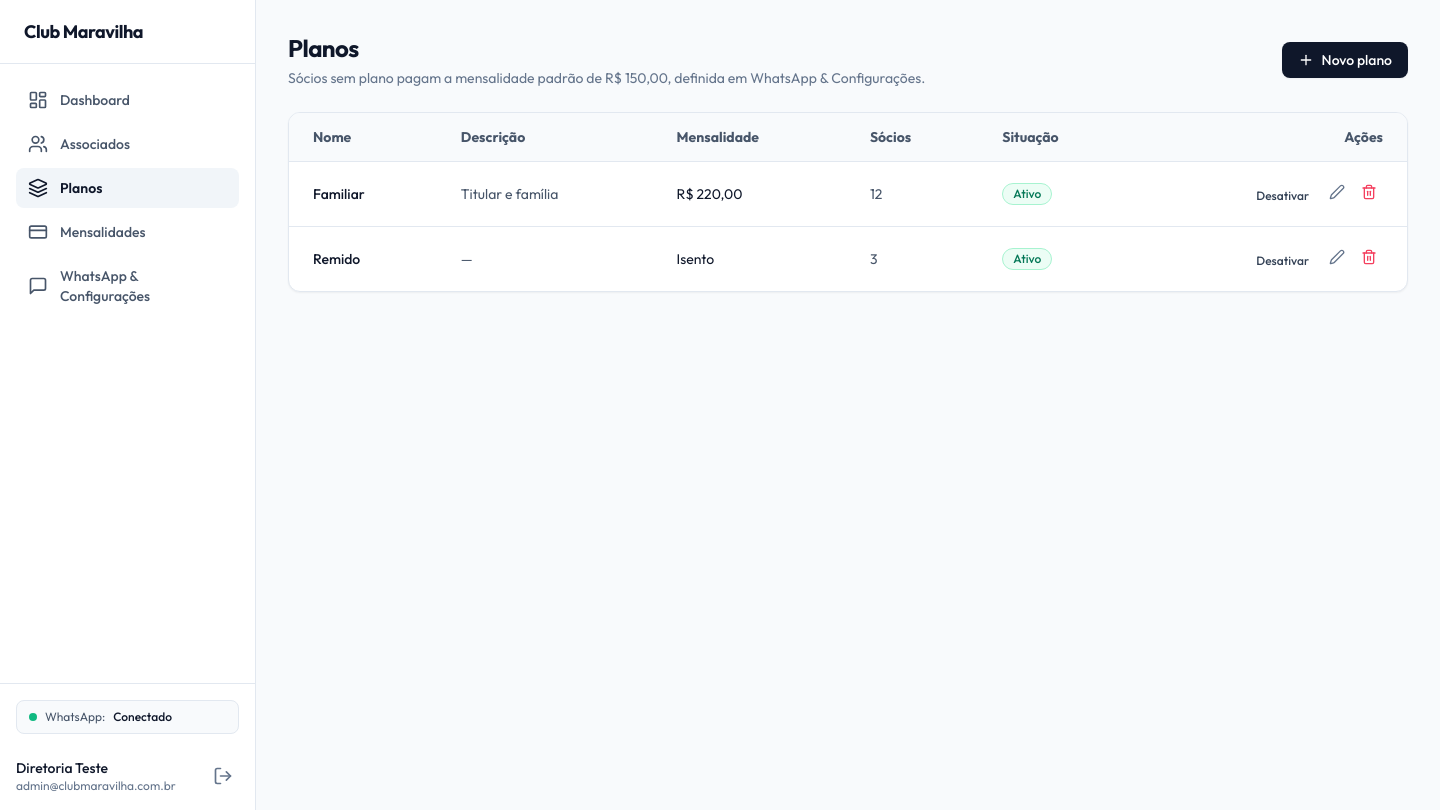
Test case: PlanosPage › cria plano e valida obrigatórios
Check: the row "Familiar Titular e família R$ 220,00 12 Ativo Desativar" is shown, box [289, 162, 1407, 226]
Click the button "Novo plano": (1345, 60) [1282, 42, 1408, 78]
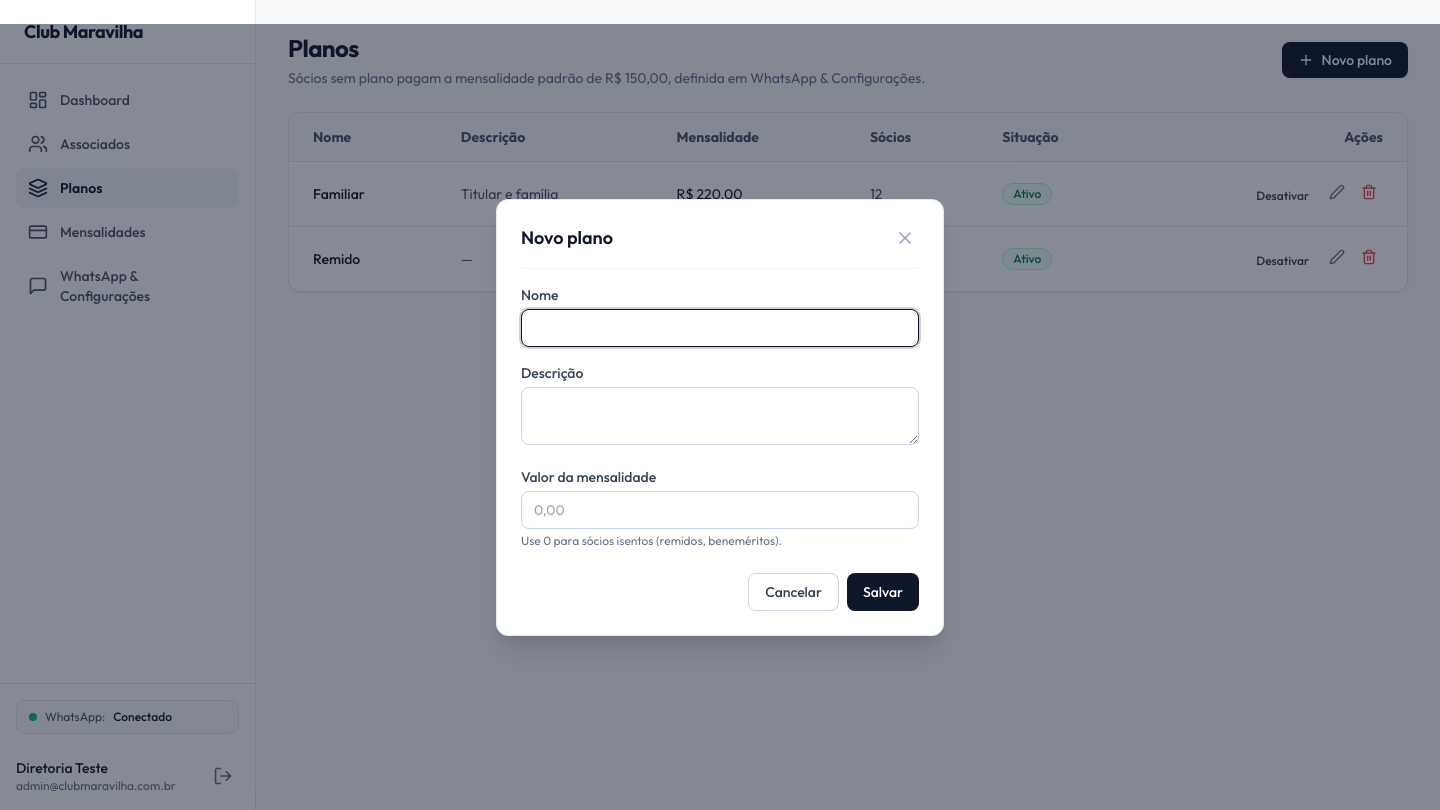
Click the button "Salvar": (883, 592) [847, 572, 919, 610]
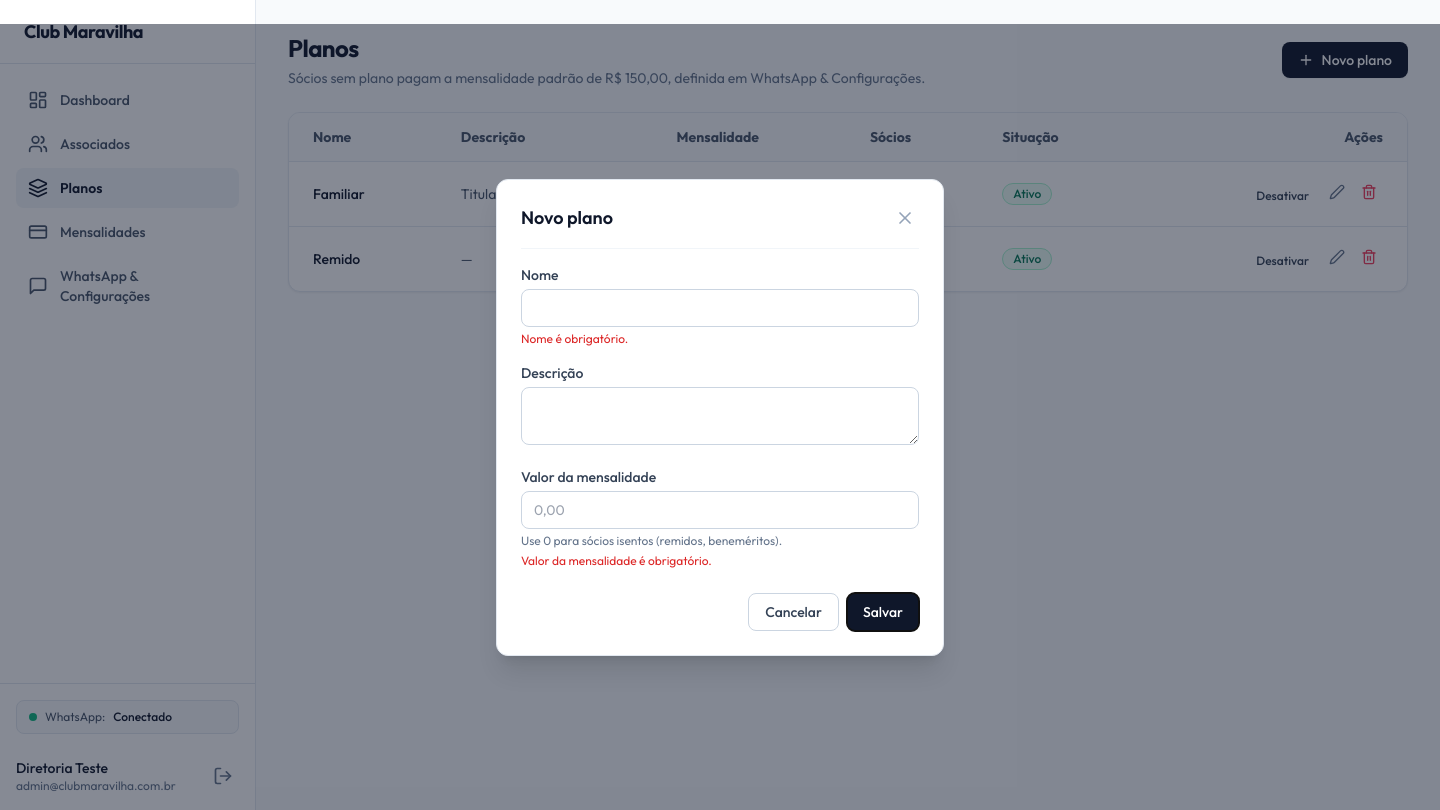
Check: the text "Nome é obrigatório." is shown 2 times, box [521, 330, 628, 346]; [521, 552, 712, 568]
In the field labelled "Nome": (720, 308) [521, 288, 919, 326], type "Individual"
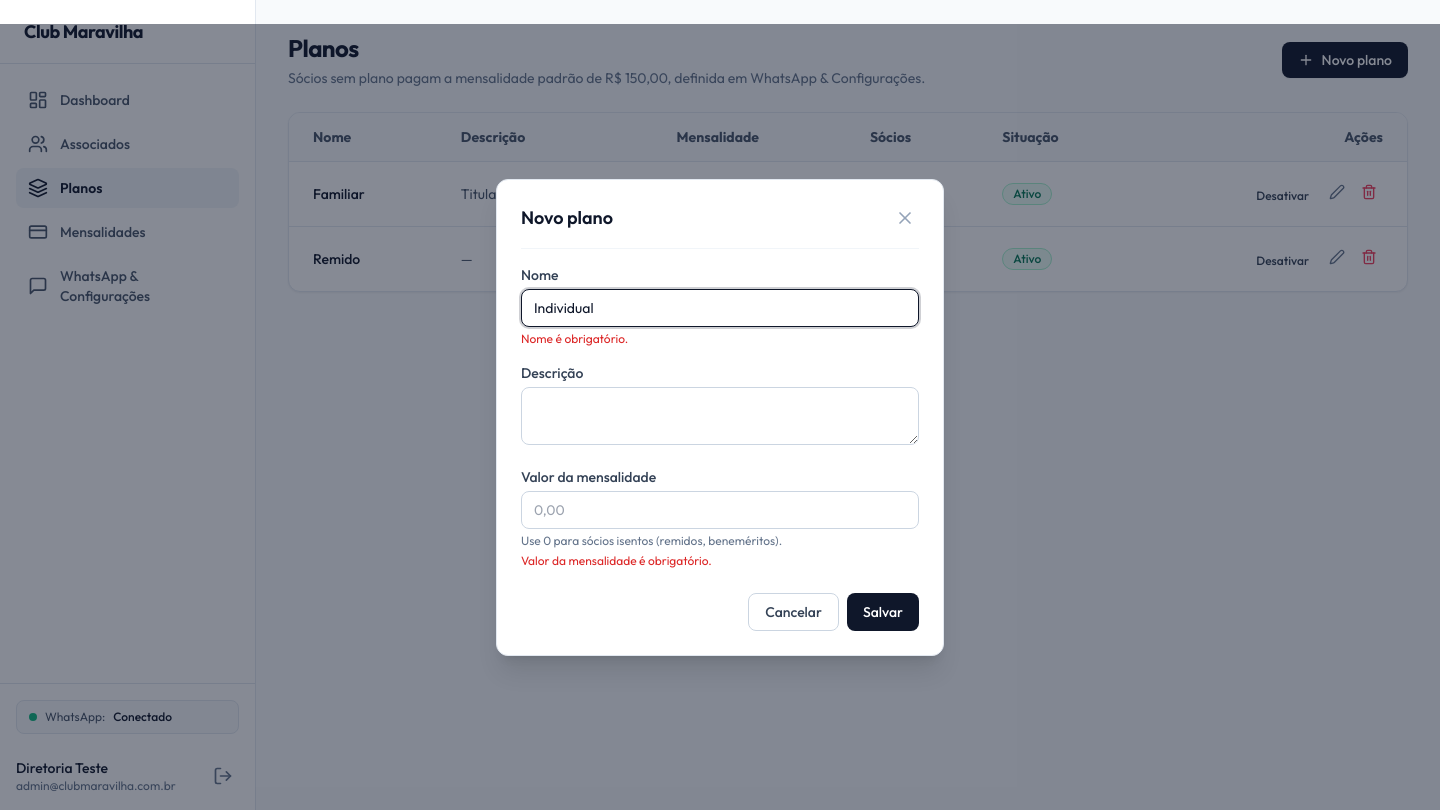
In the field labelled "Valor da mensalidade": (720, 510) [521, 490, 919, 528], type "150,50"
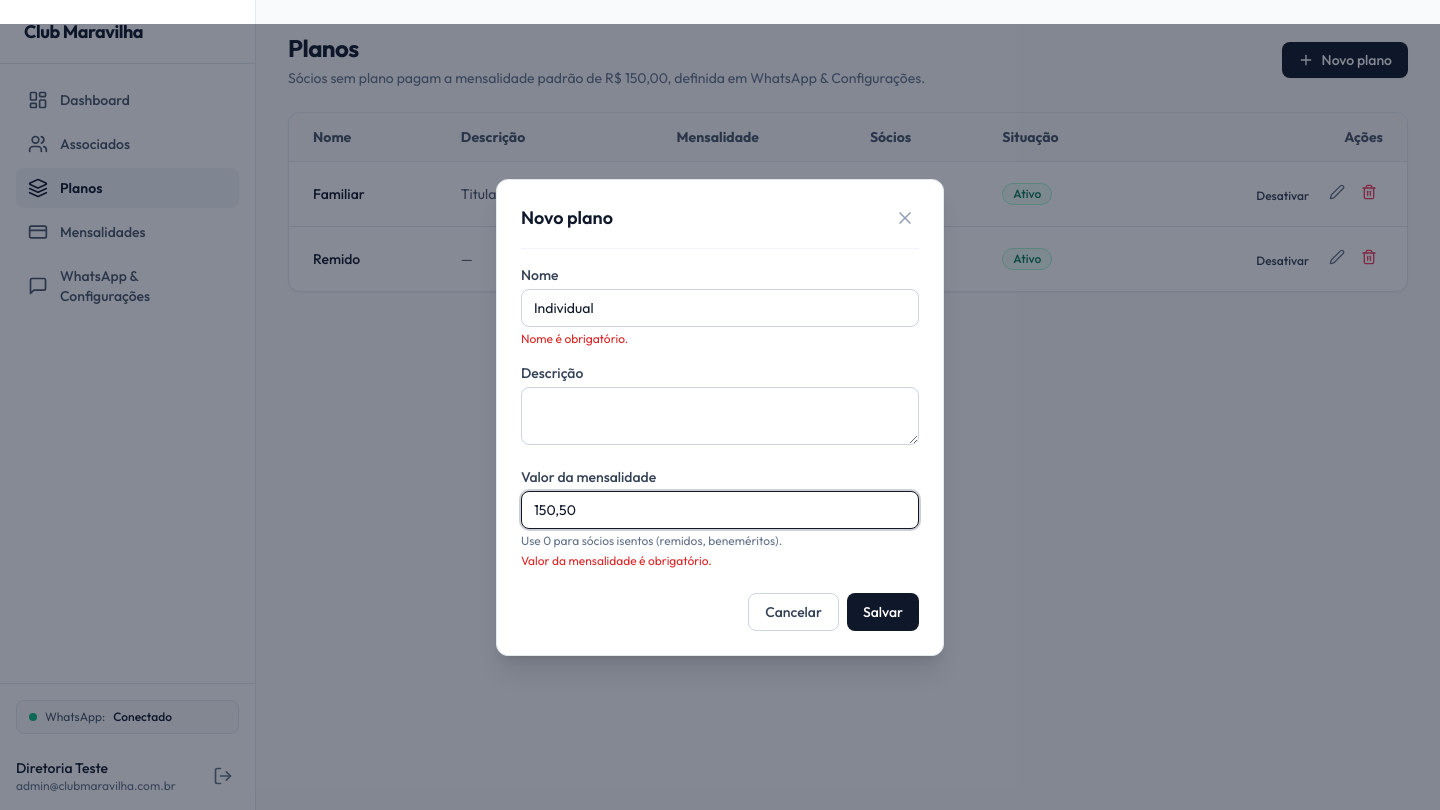
Click the button "Salvar": (883, 612) [847, 592, 919, 630]
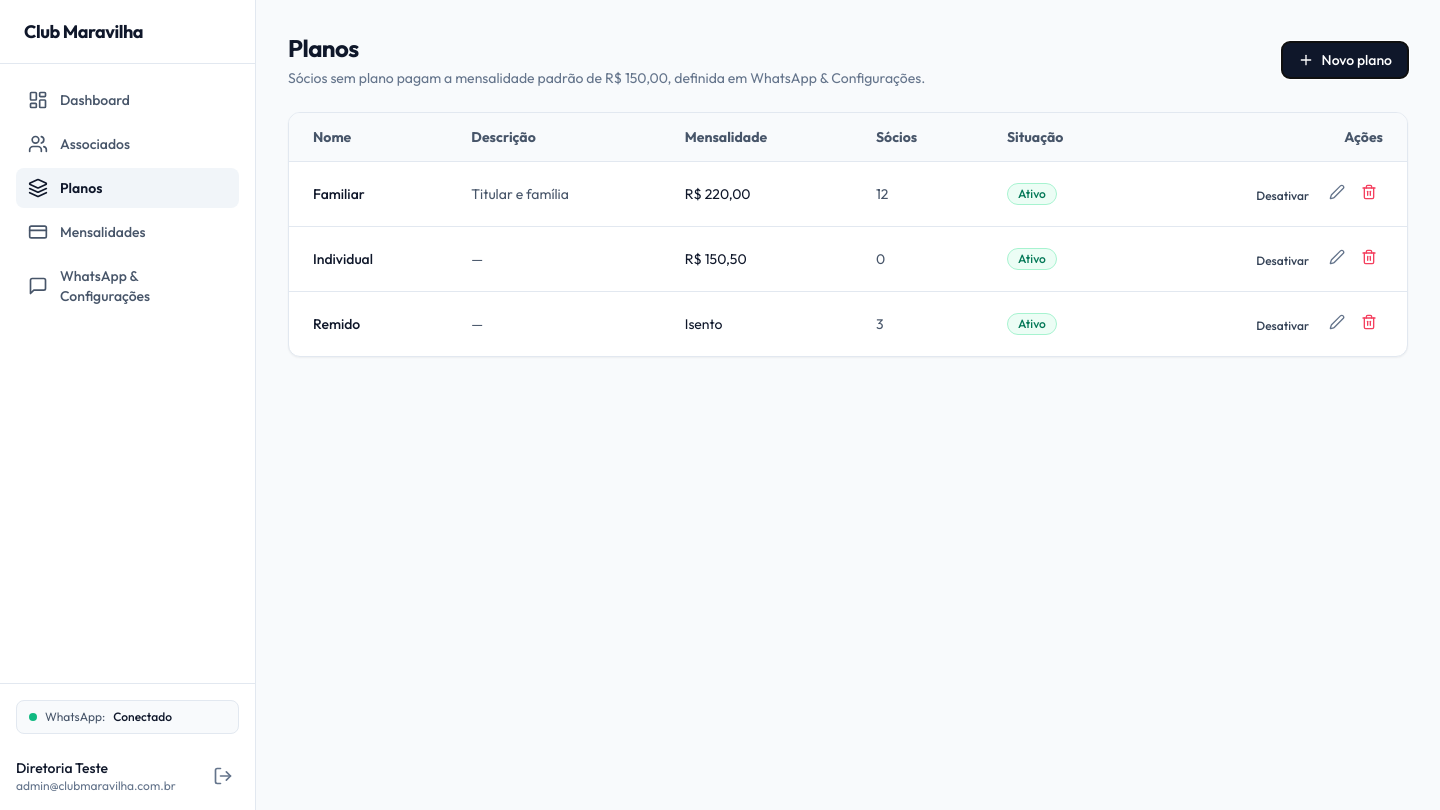
Check: the row "Individual — R$ 150,50 0 Ativo Desativar" is shown, box [289, 226, 1407, 292]
